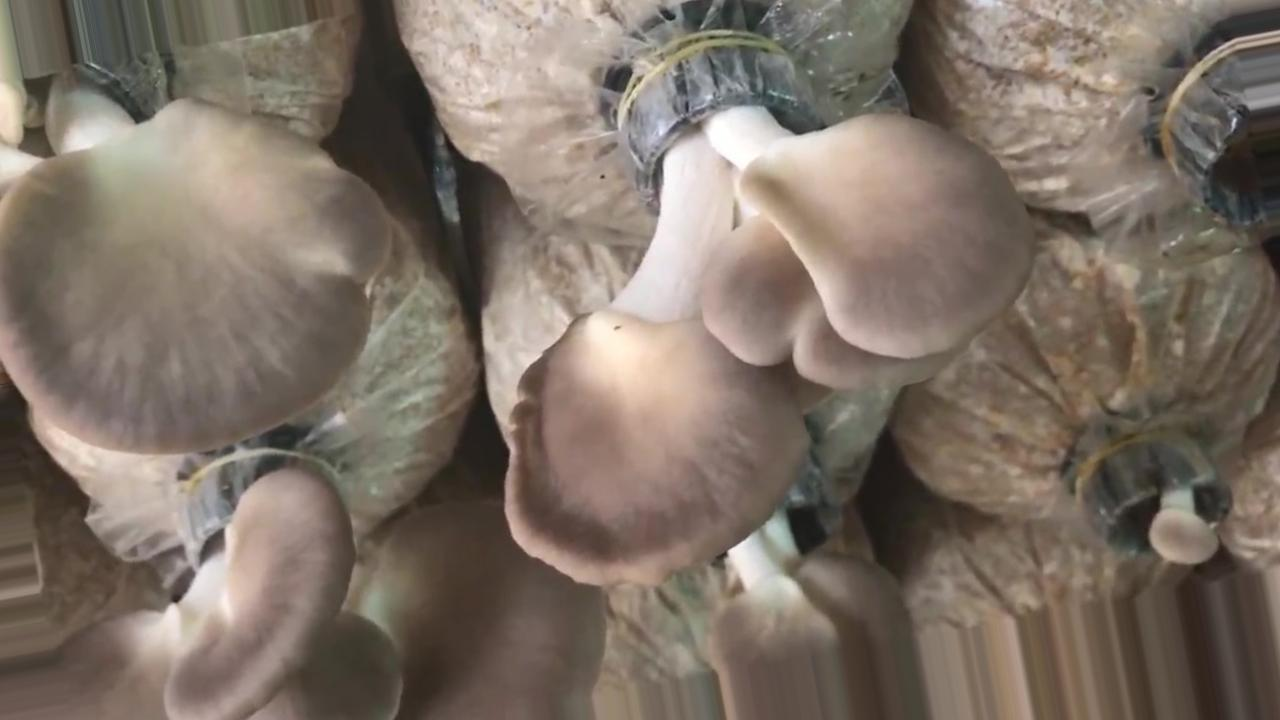nam: (501, 41, 1034, 584), (4, 447, 609, 720), (1, 71, 392, 450), (704, 463, 932, 720), (1088, 434, 1236, 564)
